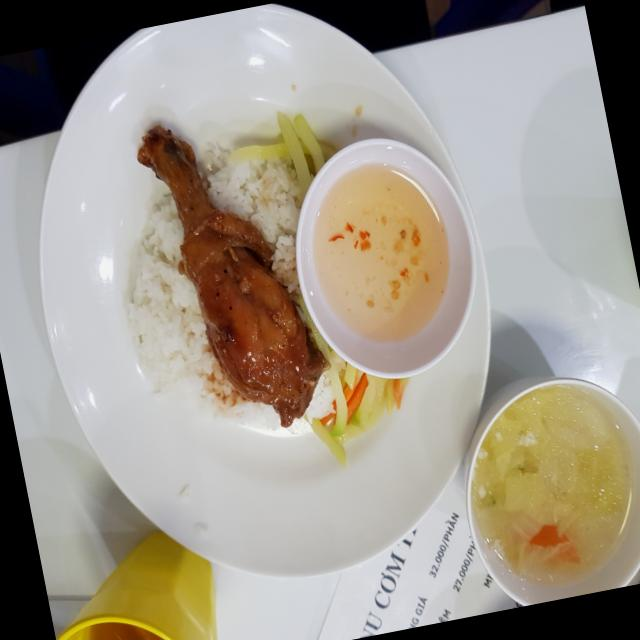canh cai: (471, 384, 632, 580)
com: (127, 194, 282, 430), (203, 146, 301, 298), (306, 373, 334, 417)
ga chien: (138, 126, 324, 427)
nuoc mam: (312, 164, 450, 343)
rau: (299, 293, 410, 467), (230, 113, 337, 200)
